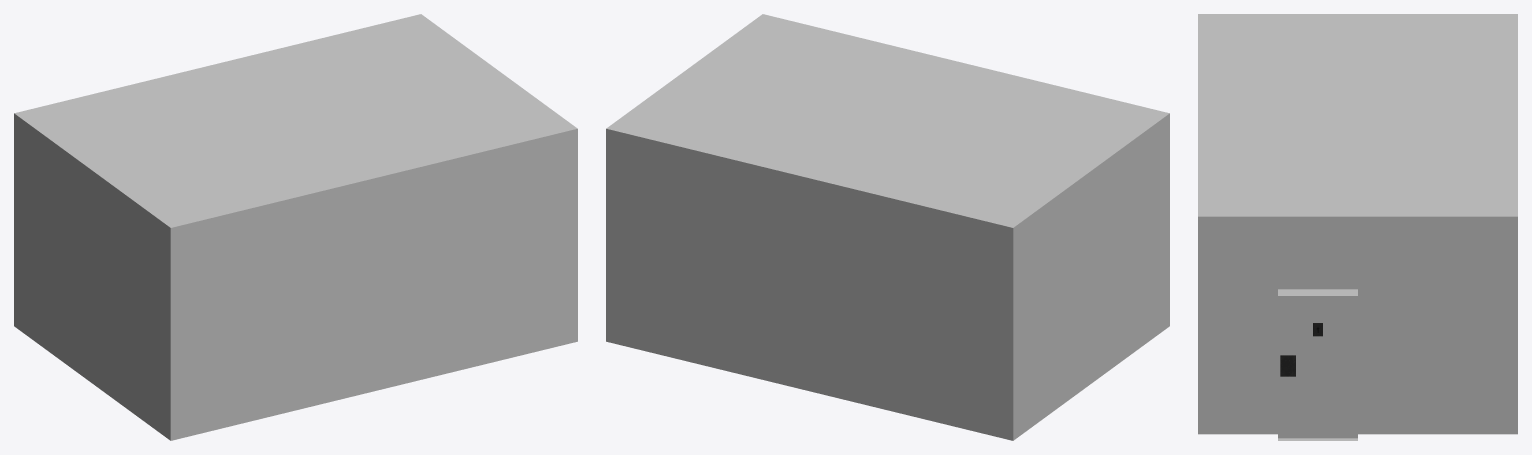
Rendered from Bathroom.FBX.
3 views of the same model, side by side, from view 1: azimuth 30°, elevation 25°; view 2: azimuth 150°, elevation 25°; view 3: azimuth 270°, elevation 25° (orthographic). The views are drawn at different scales.
Visible parts, largest first — view 1: Bathroom Walls; view 2: Bathroom Walls; view 3: Bathroom Walls, Bathroom Door.
Boxes of the visible parts, box(x1,y1,x2,y2) form: Bathroom Walls: box(14, 14, 577, 440); Bathroom Walls: box(606, 14, 1169, 440); Bathroom Walls: box(1198, 14, 1517, 440); Bathroom Door: box(1278, 292, 1357, 438).
Size of the model in its own units: 620 by 400 by 300.
